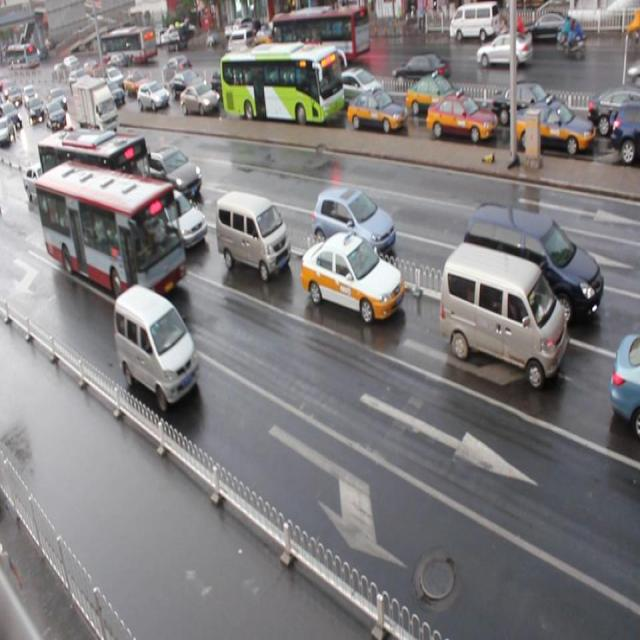bus: (71, 76, 118, 142)
car: (299, 229, 402, 321), (311, 186, 397, 260), (514, 99, 594, 159), (138, 187, 206, 252), (425, 92, 497, 144), (144, 145, 204, 205), (492, 82, 568, 128), (608, 330, 640, 434), (345, 87, 406, 133), (404, 74, 466, 118), (586, 89, 640, 136), (332, 64, 385, 108), (609, 99, 640, 161), (22, 159, 60, 204), (180, 80, 220, 116), (211, 69, 243, 104), (138, 81, 170, 110), (169, 73, 204, 99), (125, 70, 152, 95), (100, 82, 124, 109)
truck: (438, 240, 567, 388), (462, 201, 603, 334), (114, 283, 200, 412), (214, 187, 289, 281)
van: (35, 161, 188, 312), (37, 126, 154, 235), (216, 42, 339, 125)
